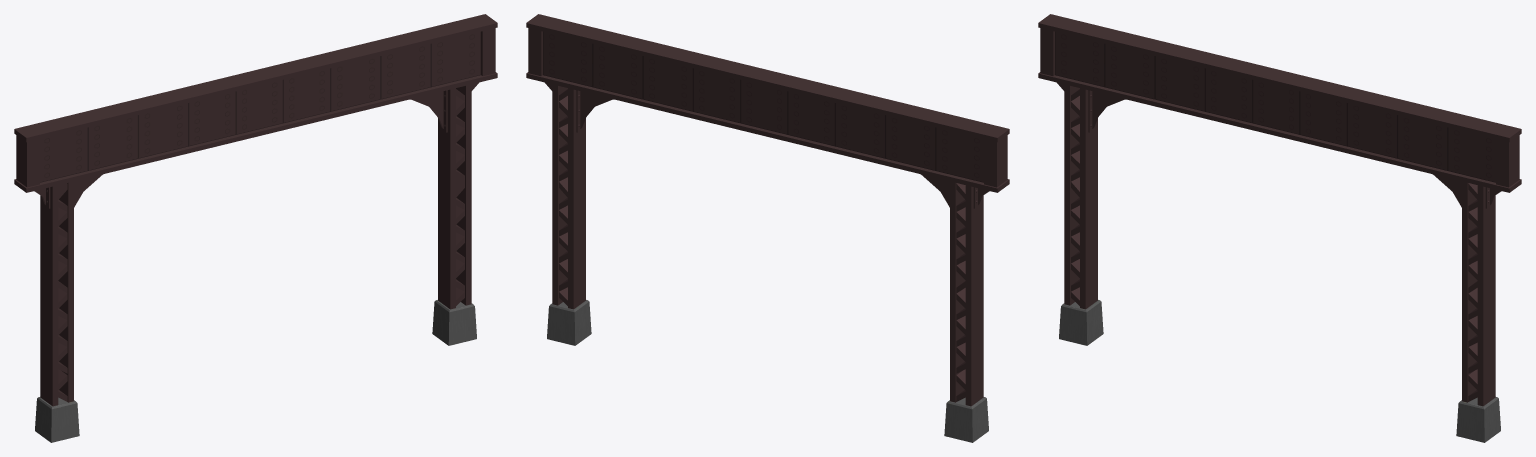
The model's file is SW_ENV_EL_TrackSupport_Triple.fbx.
3 renders of one model, left to right at view 1: azimuth 30°, elevation 25°; view 2: azimuth 150°, elevation 25°; view 3: azimuth 330°, elevation 25°, orthographic.
Visible parts, largest first — view 1: SW_ENV_EL_TrackSupport_Triple; view 2: SW_ENV_EL_TrackSupport_Triple; view 3: SW_ENV_EL_TrackSupport_Triple.
Part boxes in pixels (bbox=[...]): SW_ENV_EL_TrackSupport_Triple: bbox=[14, 14, 497, 442]; SW_ENV_EL_TrackSupport_Triple: bbox=[526, 14, 1009, 442]; SW_ENV_EL_TrackSupport_Triple: bbox=[1038, 14, 1521, 442].
Size of the model in its own units: 1660 by 1040 by 100.
